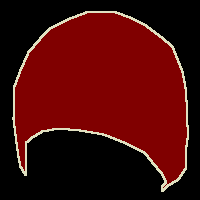hat: (13, 11, 188, 191)
